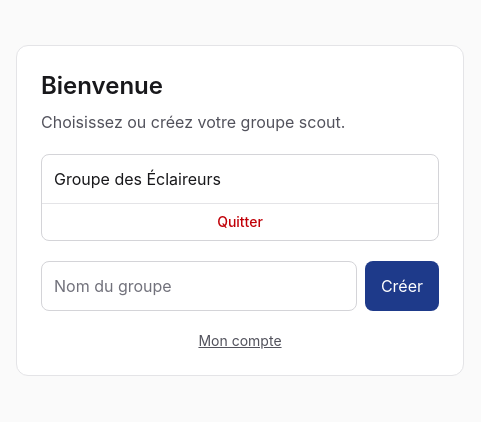
Test case: Page principale › Quitter un groupe › retire le groupe de la liste après confirmation
What coordinates should you click on to do the following:
click the button "Quitter"
I would click on:
 (240, 221)
Its box is x1=42 y1=202 x2=438 y2=240.
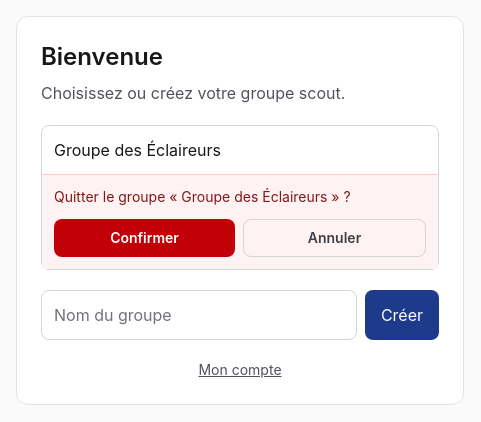
What coordinates should you click on to do the following:
click the button "Confirmer"
I would click on:
 (144, 238)
Its box is x1=54 y1=218 x2=235 y2=256.
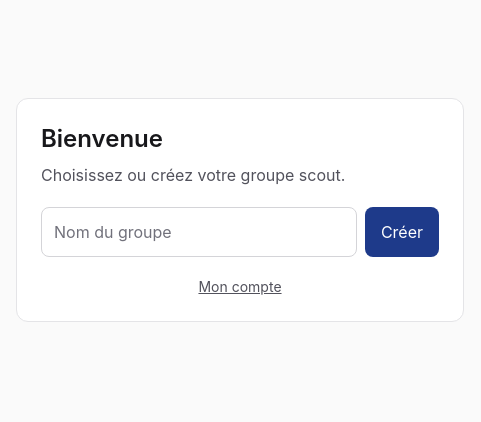
expect the heading "Bienvenue" is shown: met, box x1=41 y1=124 x2=163 y2=153
expect the button "Groupe des Éclaireurs" is gone: met
